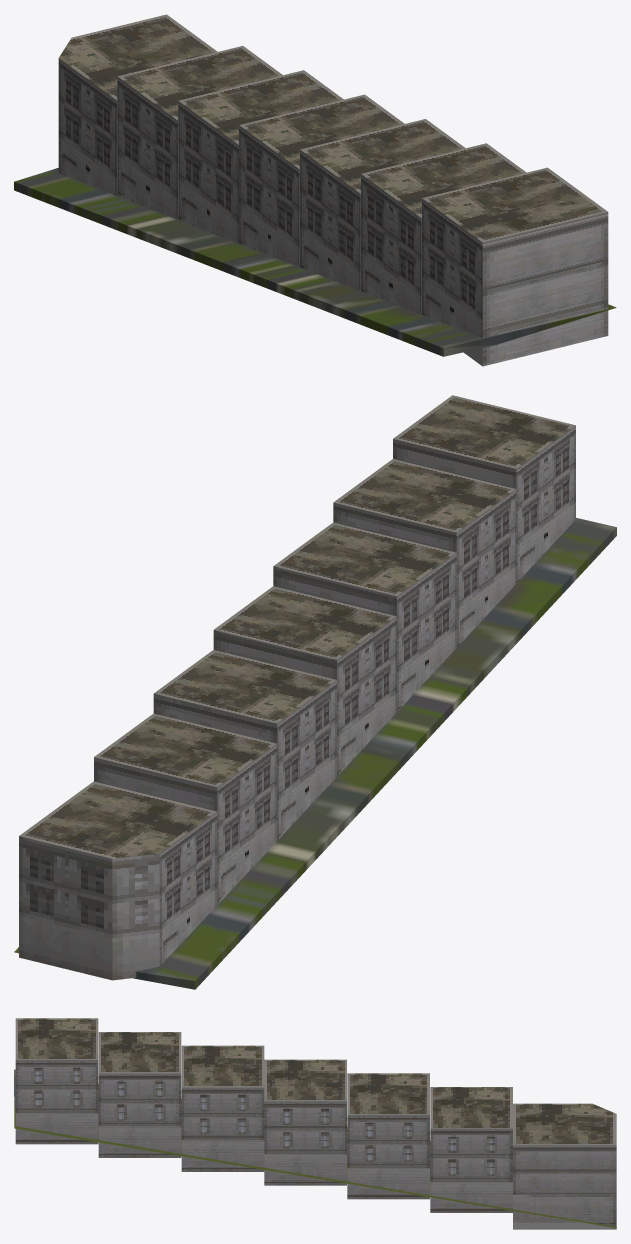
File: lodkmod2_sfw03.obj
3 renders of one model, top to bottom at view 1: azimuth 30°, elevation 25°; view 2: azimuth 150°, elevation 25°; view 3: azimuth 270°, elevation 25°, orthographic. The views are drawn at different scales.
Parts seen in each view (by area): view 1: LODkmod2_sfw03; view 2: LODkmod2_sfw03; view 3: LODkmod2_sfw03.
Part boxes in pixels (bbox=[...]): LODkmod2_sfw03: bbox=[14, 14, 616, 366]; LODkmod2_sfw03: bbox=[14, 395, 616, 989]; LODkmod2_sfw03: bbox=[14, 1018, 616, 1229].
Bounding box in the file's own units: 30.23 × 41.72 × 133.
8 materials, 7 textured.
